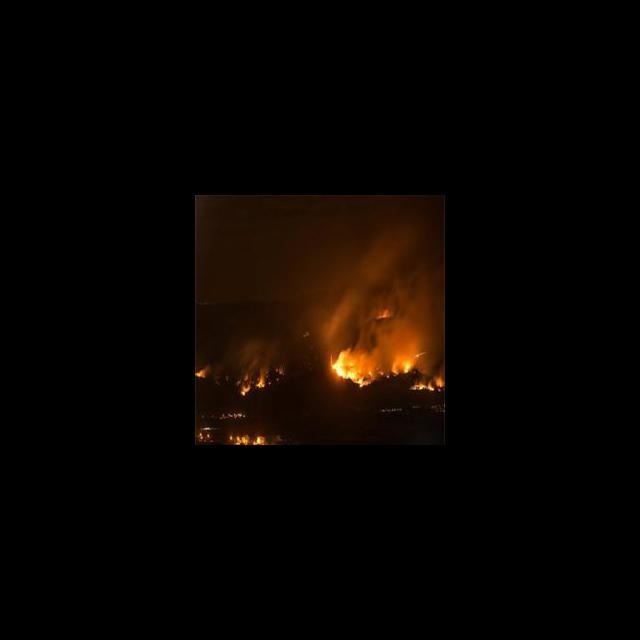Fire: (332, 282, 444, 396), (236, 360, 286, 397), (196, 426, 279, 444)
